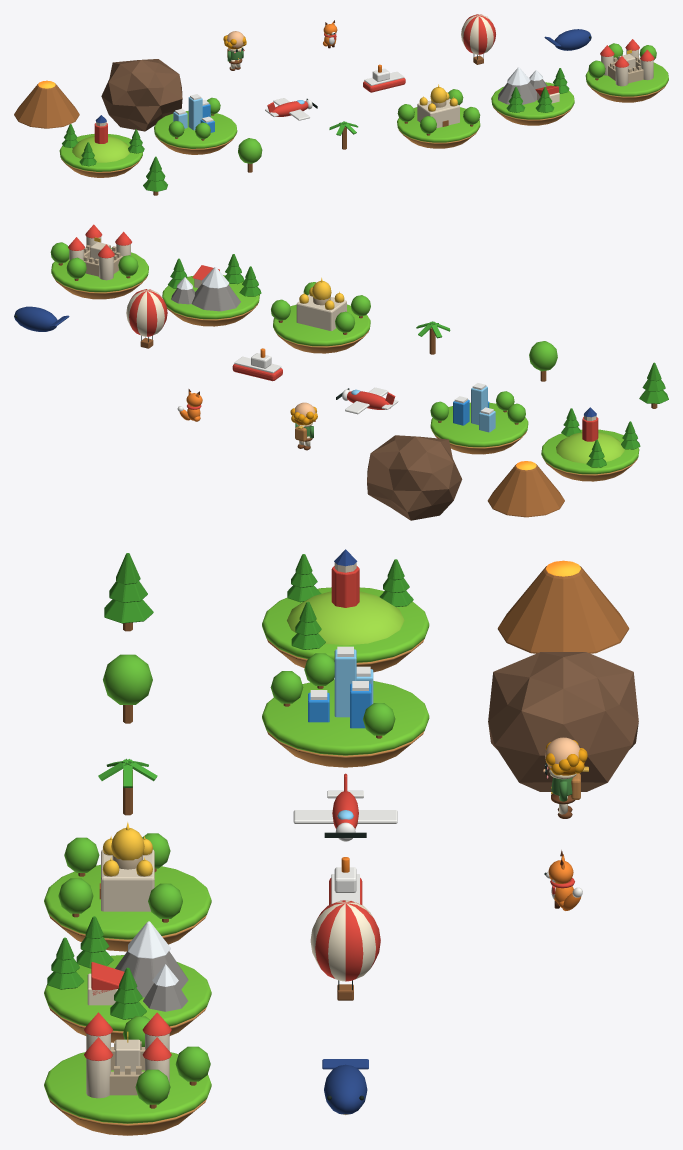
Rendered from props.glb.
3 views of the same model, one above another, from view 1: azimuth 30°, elevation 25°; view 2: azimuth 150°, elevation 25°; view 3: azimuth 270°, elevation 25° (orthographic). The views are drawn at different scales.
Visible parts, largest first — view 1: meteor_rock, volcano_cone, city_auto_grass, city_chisinau_grass, city_sofia_grass, balloon_env, city_zurich_grass, city_vilnius_grass, viln_hill, sofia_hall, whale_body, zurich_alp (+9 smaller); view 2: meteor_rock, volcano_cone, city_auto_grass, city_sofia_grass, city_chisinau_grass, city_vilnius_grass, balloon_env, city_zurich_grass, viln_hill, sofia_hall, zurich_alp, whale_body (+8 smaller); view 3: meteor_rock, volcano_cone, city_auto_grass, city_chisinau_grass, city_sofia_grass, balloon_env, city_vilnius_grass, viln_hill, city_zurich_grass, sofia_hall, tree_round_round_leaf, whale_body (+18 smaller).
Boxes of the visible parts, x1=… form: meteor_rock: x1=101, y1=59, x2=182, y2=131; volcano_cone: x1=14, y1=83, x2=79, y2=128; city_auto_grass: x1=154, y1=111, x2=237, y2=148; city_chisinau_grass: x1=585, y1=62, x2=668, y2=96; city_sofia_grass: x1=397, y1=107, x2=480, y2=142; balloon_env: x1=461, y1=14, x2=495, y2=54; city_zurich_grass: x1=491, y1=82, x2=574, y2=119; city_vilnius_grass: x1=59, y1=134, x2=142, y2=171; viln_hill: x1=72, y1=136, x2=129, y2=162; sofia_hall: x1=417, y1=98, x2=459, y2=128; whale_body: x1=554, y1=29, x2=591, y2=50; zurich_alp: x1=498, y1=82, x2=536, y2=104; meteor_rock: x1=367, y1=435, x2=462, y2=520; volcano_cone: x1=487, y1=464, x2=564, y2=517; city_auto_grass: x1=430, y1=402, x2=528, y2=447; city_sofia_grass: x1=273, y1=304, x2=370, y2=346; city_chisinau_grass: x1=51, y1=248, x2=148, y2=292; city_vilnius_grass: x1=541, y1=429, x2=639, y2=474; balloon_env: x1=126, y1=289, x2=167, y2=336; city_zurich_grass: x1=162, y1=275, x2=259, y2=319; viln_hill: x1=556, y1=432, x2=624, y2=463; sofia_hall: x1=296, y1=294, x2=346, y2=330; zurich_alp: x1=191, y1=283, x2=240, y2=311; whale_body: x1=14, y1=306, x2=57, y2=331; meteor_rock: x1=488, y1=652, x2=638, y2=791; volcano_cone: x1=497, y1=566, x2=629, y2=653; city_auto_grass: x1=262, y1=679, x2=429, y2=755; city_chisinau_grass: x1=44, y1=1052, x2=211, y2=1123; city_sofia_grass: x1=44, y1=864, x2=211, y2=939; balloon_env: x1=310, y1=900, x2=380, y2=981; city_vilnius_grass: x1=262, y1=587, x2=429, y2=662; viln_hill: x1=287, y1=591, x2=404, y2=645; city_zurich_grass: x1=44, y1=955, x2=211, y2=1031; sofia_hall: x1=101, y1=849, x2=154, y2=911; tree_round_round_leaf: x1=103, y1=654, x2=152, y2=704; whale_body: x1=324, y1=1064, x2=367, y2=1114.
Size of the model in its own units: 15 by 2.1 by 7.1.
